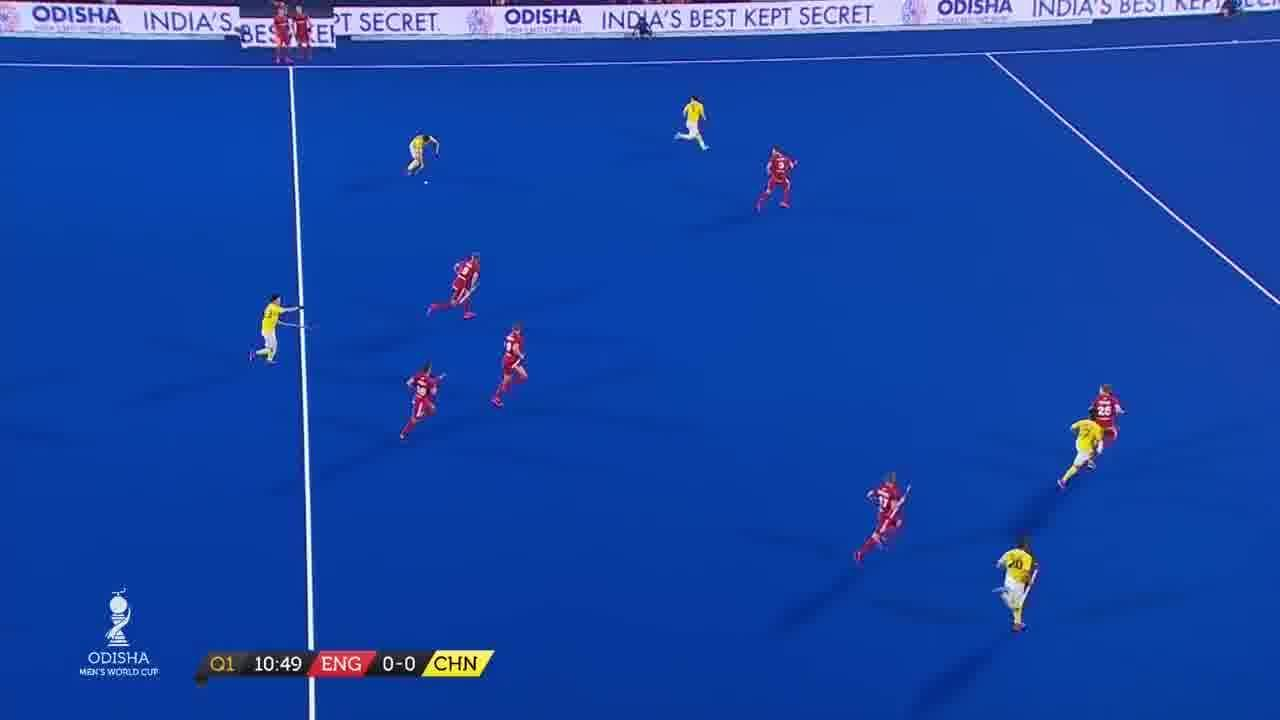ball: (418, 178, 434, 190)
